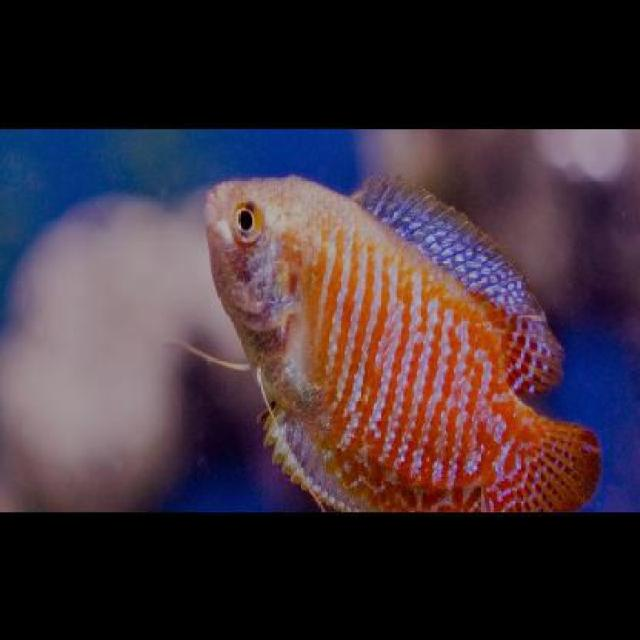Gourami: (198, 161, 602, 510)
